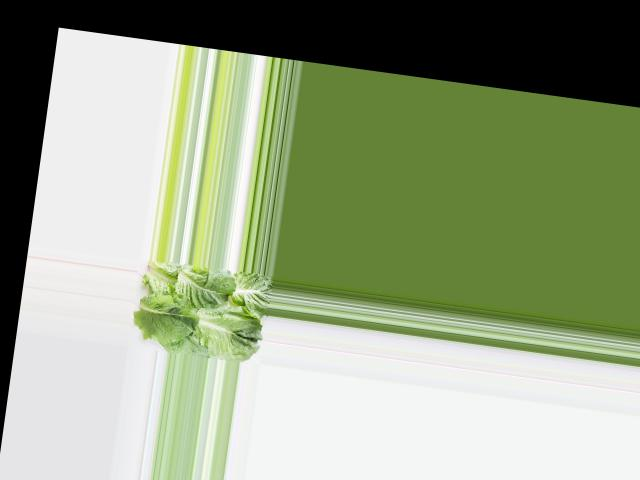lettuce: (132, 257, 270, 362)
